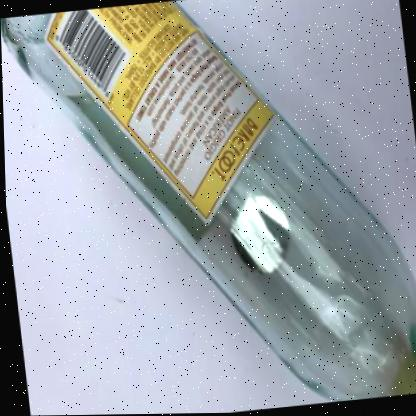Glass: (0, 0, 416, 403)
